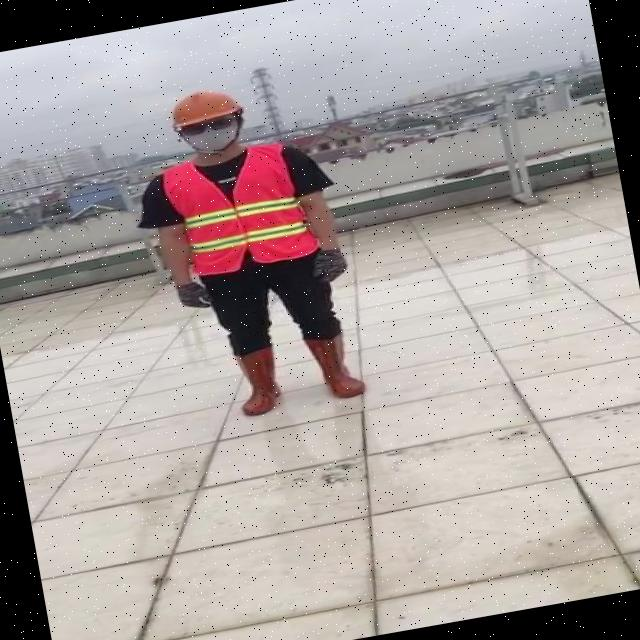boots: (300, 328, 371, 406), (228, 344, 287, 418)
helmet: (161, 83, 242, 130)
vest: (156, 137, 318, 277)
